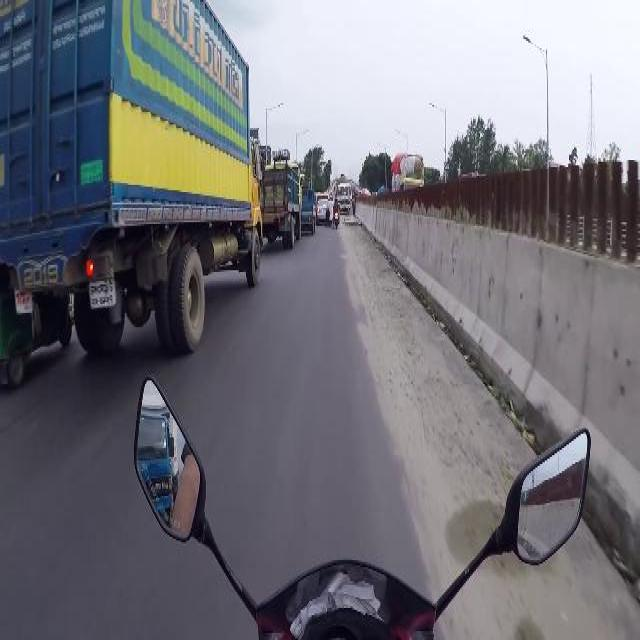car: (315, 197, 329, 223)
motorbike: (130, 369, 594, 634), (332, 198, 340, 228)
pickup: (301, 188, 315, 235)
three wheelers -CNG-: (2, 308, 72, 390)
truck: (2, 0, 263, 350), (262, 149, 300, 249), (390, 170, 422, 186), (336, 182, 352, 212)
